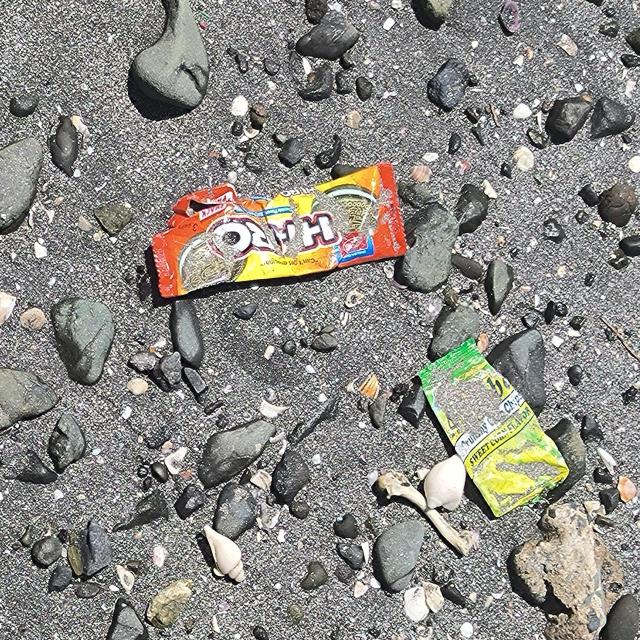plastic_waste: (151, 163, 412, 300), (418, 337, 572, 519)
